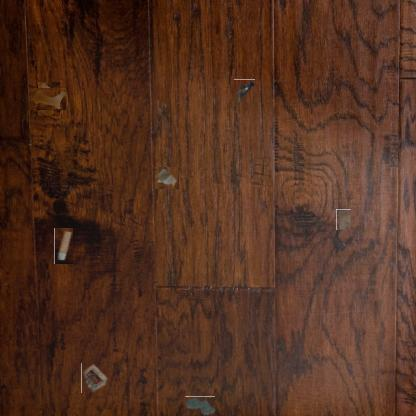dirty: (81, 363, 108, 393), (54, 228, 73, 264), (155, 167, 179, 189), (233, 79, 255, 102), (336, 209, 351, 230)
liquid: (35, 85, 63, 113), (185, 396, 215, 415)
